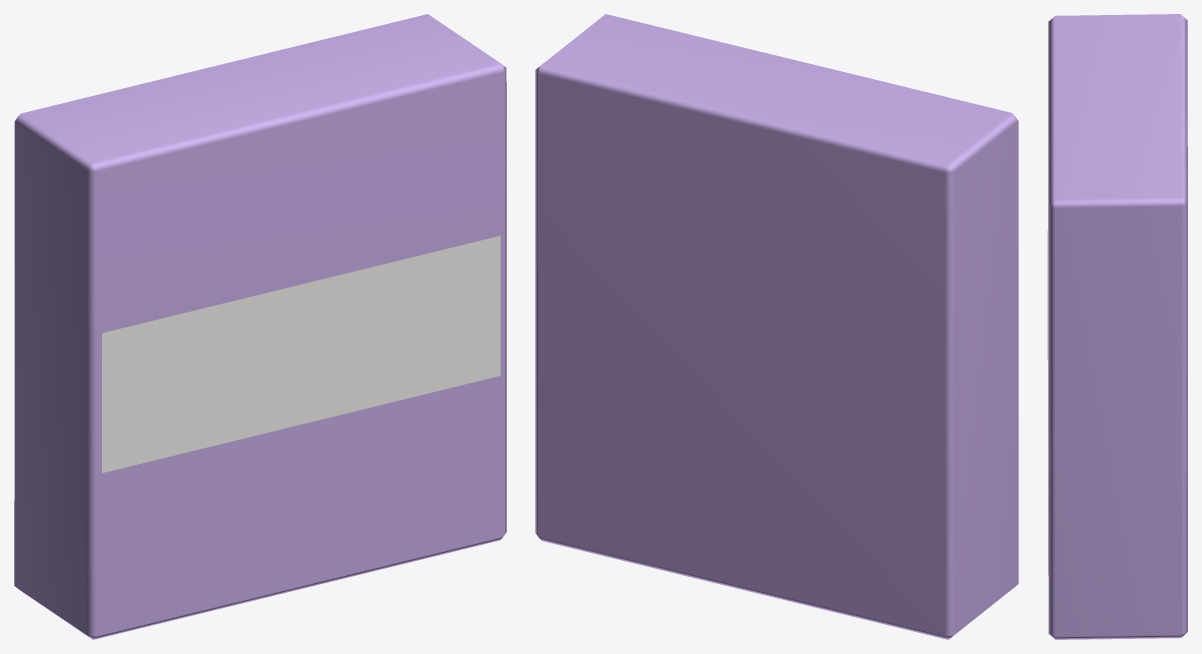
Rendered from Powder_1.glb.
3 views of the same model, side by side, from view 1: azimuth 30°, elevation 25°; view 2: azimuth 150°, elevation 25°; view 3: azimuth 270°, elevation 25° (orthographic). The views are drawn at different scales.
Parts seen in each view (by area): view 1: Powder_1; view 2: Powder_1; view 3: Powder_1.
Boxes of the visible parts, x1,y1,x2,y2 form: Powder_1: (14, 14, 506, 639); Powder_1: (535, 14, 1018, 639); Powder_1: (1047, 14, 1187, 639).
Size of the model in its own units: 0.2526 by 0.2718 by 0.0788.
1 material, 1 textured.
